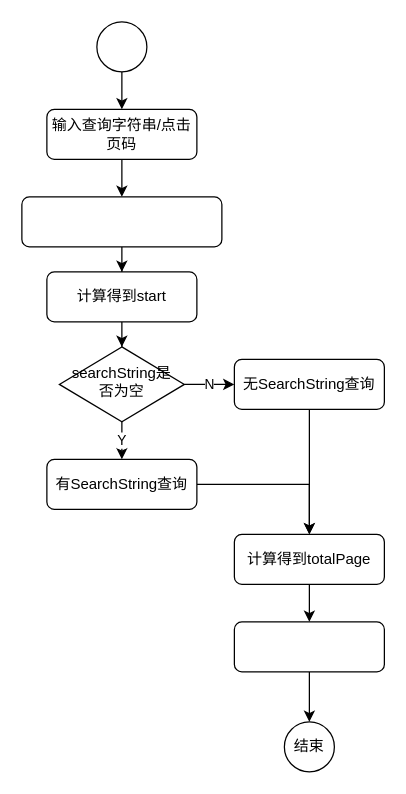
Some shapes in this 406 by 794 pixel diagram are drawn without their labels. Each missing label, with the centre of its shape:
"包装为noticePageBean,返回前端" goes at pixel 308 646.
"开始" goes at pixel 121 46.
"获取searchString/currentPage" goes at pixel 121 221.
